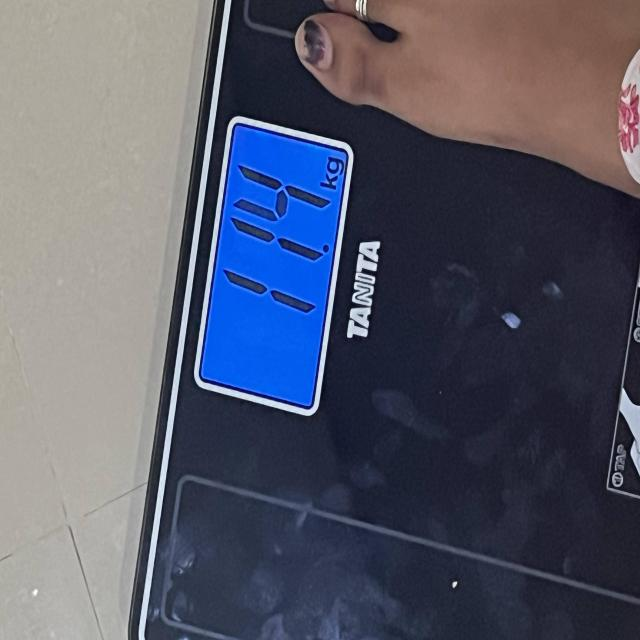ws: (125, 0, 640, 640)
